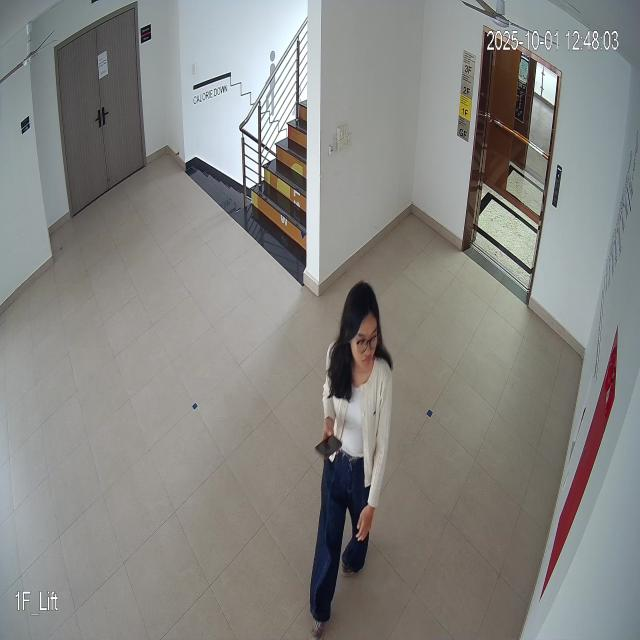face: (340, 273, 384, 376)
